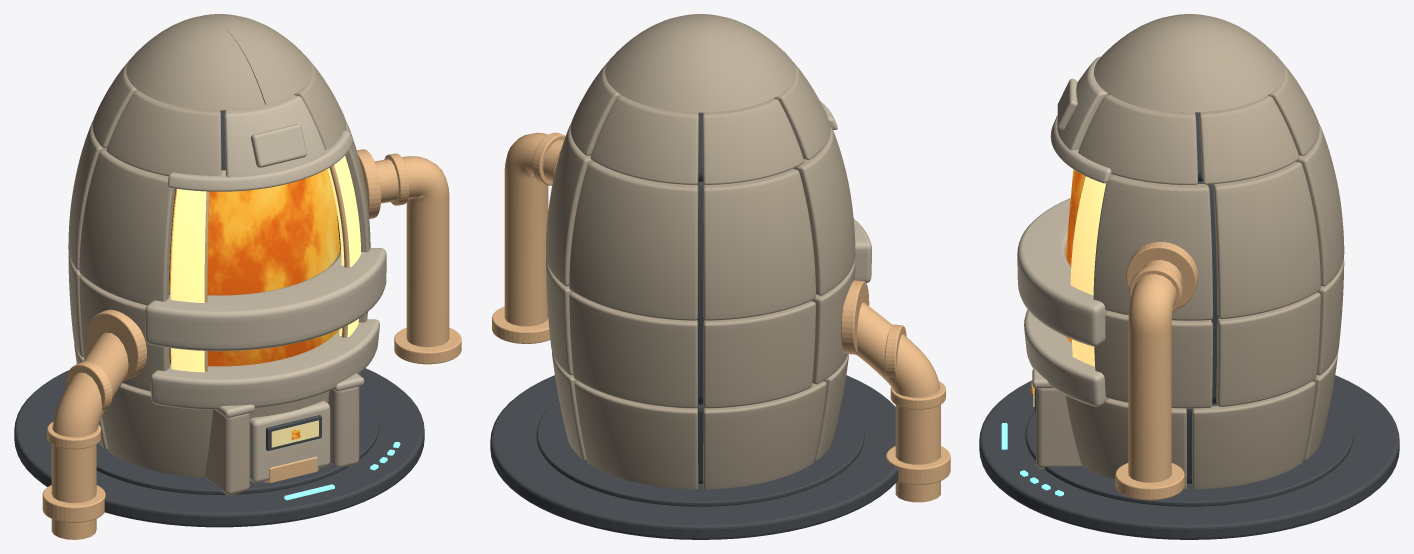
Rendered from reactor.glb.
3 renders of one model, left to right at view 1: azimuth 30°, elevation 25°; view 2: azimuth 150°, elevation 25°; view 3: azimuth 270°, elevation 25°, orthographic. The views are drawn at different scales.
Parts seen in each view (by area): view 1: reactor_base, flame_core, reactor_rib_big, reactor_shell_cap, reactor_shell_2_4, reactor_rib_low, reactor_pipe_right, reactor_shell_3_5, reactor_shell_0_5, reactor_pipe_left, reactor_shell_3_0, reactor_base_top (+25 smaller); view 2: reactor_base, reactor_shell_2_2, reactor_shell_2_3, reactor_shell_cap, reactor_shell_1_2, reactor_shell_1_3, reactor_shell_0_4, reactor_shell_0_3, reactor_base_top, reactor_pipe_right, reactor_shell_3_3, reactor_pipe_left (+17 smaller); view 3: reactor_base, reactor_shell_cap, reactor_shell_2_1, reactor_shell_2_0, reactor_shell_0_2, reactor_pipe_right, reactor_shell_1_1, reactor_shell_3_1, reactor_rib_big, reactor_base_top, reactor_shell_3_2, reactor_shell_1_0 (+16 smaller).
Boxes of the visible parts, bbox=[...] form: reactor_base: bbox=[14, 368, 424, 527]; flame_core: bbox=[169, 169, 340, 366]; reactor_rib_big: bbox=[145, 247, 386, 351]; reactor_shell_cap: bbox=[126, 14, 312, 110]; reactor_shell_2_4: bbox=[79, 150, 175, 305]; reactor_rib_low: bbox=[150, 319, 379, 409]; reactor_pipe_right: bbox=[374, 156, 449, 347]; reactor_shell_3_5: bbox=[106, 91, 221, 176]; reactor_shell_0_5: bbox=[102, 383, 212, 477]; reactor_pipe_left: bbox=[51, 332, 128, 539]; reactor_shell_3_0: bbox=[224, 94, 326, 177]; reactor_base_top: bbox=[96, 391, 379, 494]; reactor_base: bbox=[490, 375, 898, 539]; reactor_shell_2_2: bbox=[569, 161, 698, 320]; reactor_shell_2_3: bbox=[703, 168, 815, 320]; reactor_shell_cap: bbox=[605, 14, 795, 112]; reactor_shell_1_2: bbox=[569, 292, 697, 408]; reactor_shell_1_3: bbox=[703, 301, 815, 408]; reactor_shell_0_4: bbox=[703, 381, 826, 489]; reactor_shell_0_3: bbox=[574, 381, 698, 489]; reactor_base_top: bbox=[536, 399, 864, 506]; reactor_pipe_right: bbox=[504, 132, 564, 326]; reactor_shell_3_3: bbox=[590, 95, 698, 184]; reactor_pipe_left: bbox=[856, 302, 940, 502]; reactor_base: bbox=[979, 375, 1399, 539]; reactor_shell_cap: bbox=[1094, 14, 1284, 112]; reactor_shell_2_1: bbox=[1213, 161, 1320, 319]; reactor_shell_2_0: bbox=[1093, 175, 1212, 320]; reactor_shell_0_2: bbox=[1192, 381, 1315, 489]; reactor_pipe_right: bbox=[1128, 260, 1182, 482]; reactor_shell_1_1: bbox=[1216, 292, 1320, 406]; reactor_shell_3_1: bbox=[1078, 94, 1197, 184]; reactor_rib_big: bbox=[1017, 198, 1108, 346]; reactor_base_top: bbox=[1025, 399, 1353, 506]; reactor_shell_3_2: bbox=[1199, 95, 1299, 184]; reactor_shell_1_0: bbox=[1094, 311, 1212, 408].
Bounding box in the file's own units: 4.35 × 4.28 × 3.64.
8 materials, 1 textured.
